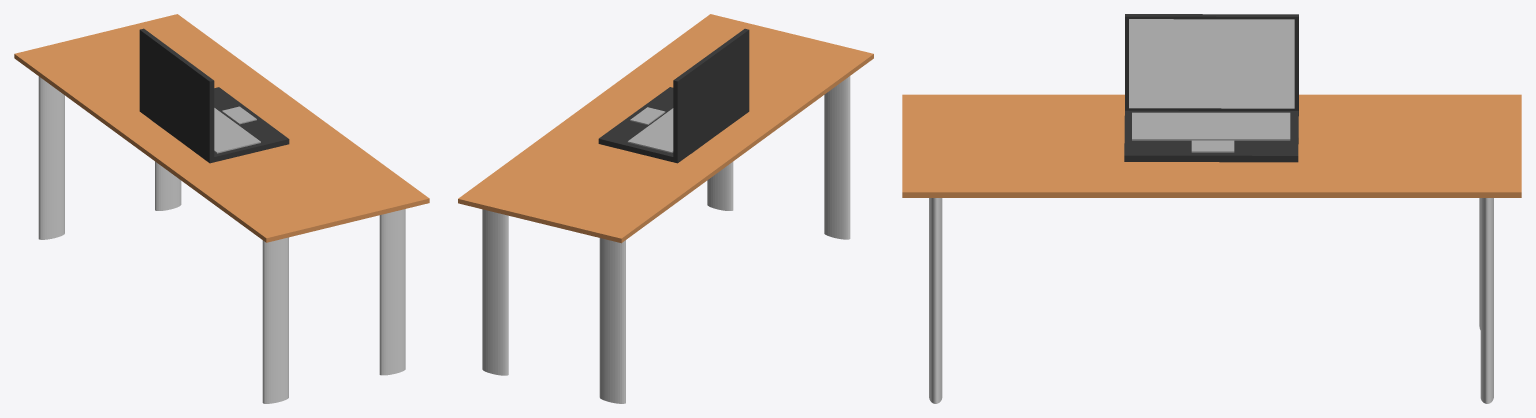
Rendered from laptop&desk.glb.
3 renders of one model, left to right at view 1: azimuth 30°, elevation 25°; view 2: azimuth 150°, elevation 25°; view 3: azimuth 270°, elevation 25°, orthographic. The views are drawn at different scales.
Parts seen in each view (by area): view 1: Plane.003, Plane, Cylinder.001, Cylinder.002, Cylinder, Plane.002, Cylinder.003; view 2: Plane.003, Plane, Cylinder.003, Cylinder, Cylinder.001, Plane.002, Cylinder.002; view 3: Plane.003, Plane, Plane.002, Cylinder.003, Cylinder.002, Plane.001.
Part boxes in pixels (box(x1,y1,x2,y2)): Plane.003: box(14, 14, 429, 242); Plane: box(139, 28, 289, 163); Cylinder.001: box(262, 237, 288, 403); Cylinder.002: box(379, 209, 405, 375); Cylinder: box(38, 76, 64, 239); Plane.002: box(214, 108, 260, 153); Cylinder.003: box(155, 161, 181, 210); Plane.003: box(458, 14, 873, 243); Plane: box(598, 28, 749, 163); Cylinder.003: box(482, 209, 508, 375); Cylinder: box(599, 238, 625, 403); Cylinder.001: box(824, 76, 850, 239); Plane.002: box(627, 108, 673, 153); Cylinder.002: box(707, 162, 733, 210); Plane.003: box(902, 94, 1521, 197); Plane: box(1124, 14, 1298, 162); Plane.002: box(1132, 112, 1290, 140); Cylinder.003: box(1480, 198, 1493, 403); Cylinder.002: box(929, 198, 942, 403); Plane.001: box(1191, 140, 1234, 152).
Bounding box in the file's own units: 10.45 × 15.87 × 27.94.
